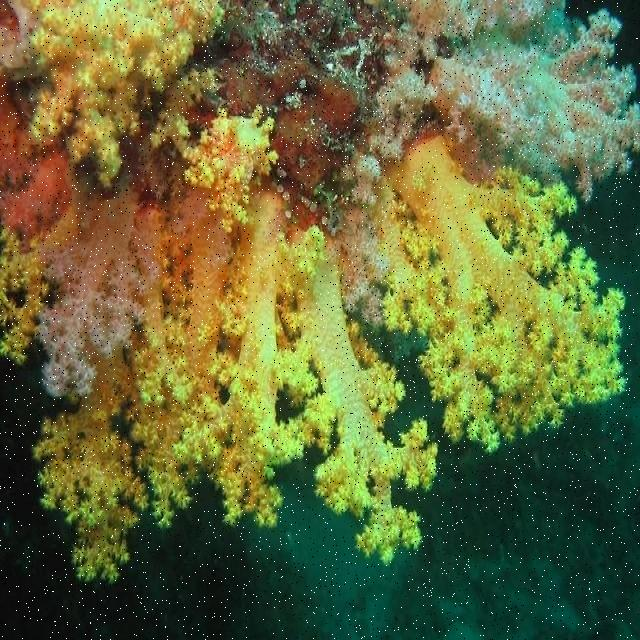reefs: (0, 1, 639, 584)
